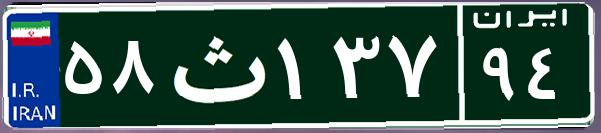1: (273, 28, 330, 110)
3: (330, 28, 385, 110)
4: (525, 38, 570, 115)
5: (57, 26, 110, 107)
7: (385, 28, 445, 110)
8: (110, 28, 158, 105)
9: (475, 38, 525, 113)
ث: (158, 15, 273, 115)
